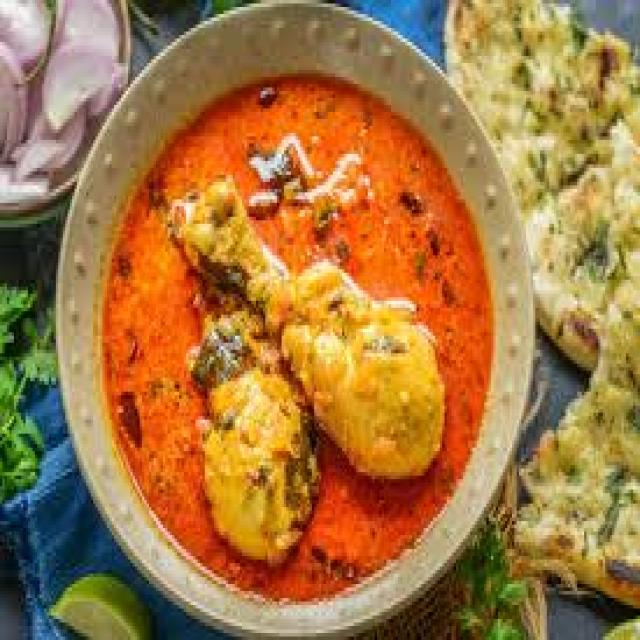Frango: (90, 84, 496, 608)
